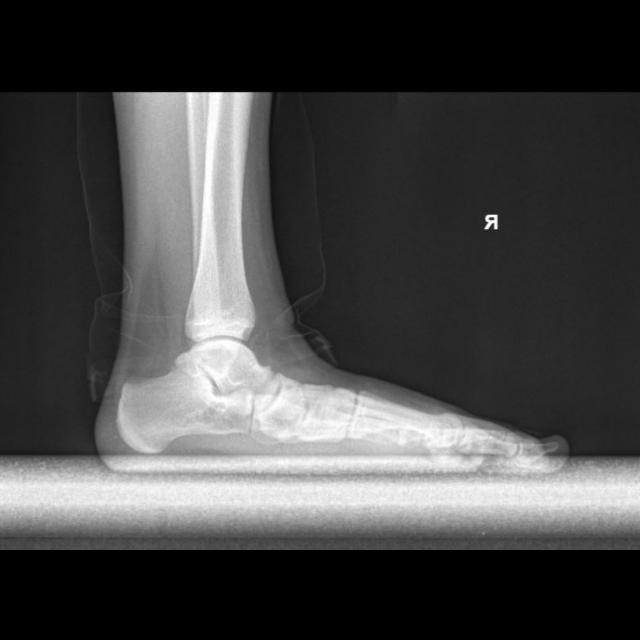a: (118, 359, 258, 453)
b: (255, 370, 303, 439)
c: (347, 388, 464, 465)
